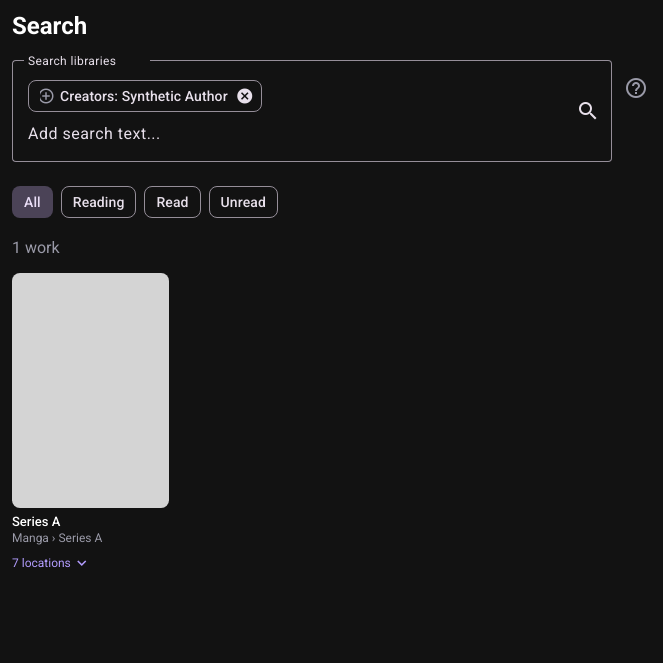
SearchComponent tag filters and work cards (1.45.0) › expands "N locations" for a split series, with the ones not listed counted
Click the button with test id "work-locations-toggle" at (51, 563), box [12,547,91,579]
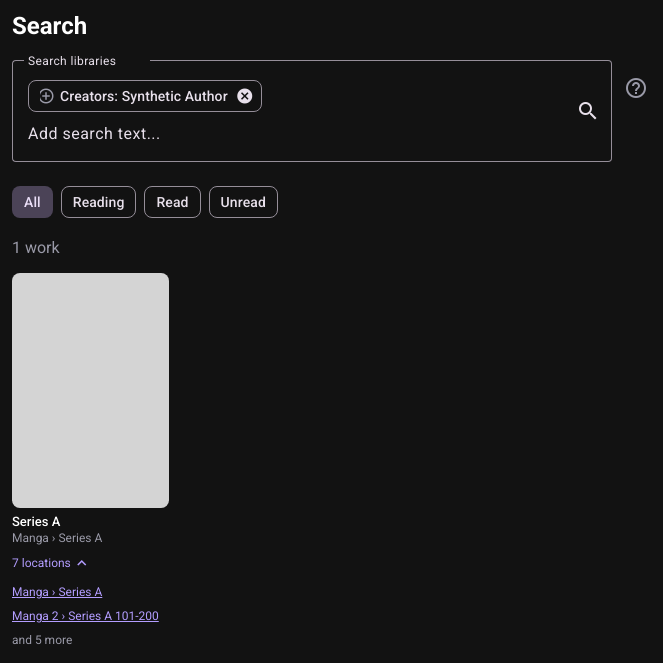
Check: the link "Manga 2 › Series A 101-200" is shown, box [12,605,169,627]
Check: the list item with class "more-places" reads "and 5 more", box [12,633,72,647]
